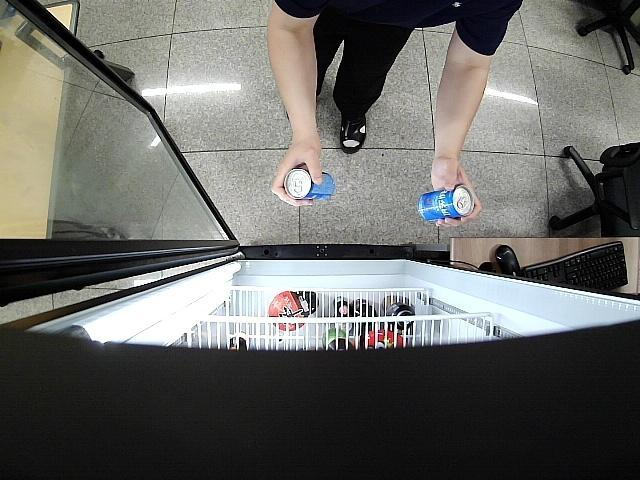15_letsbe: (420, 186, 474, 222), (284, 168, 334, 200)
